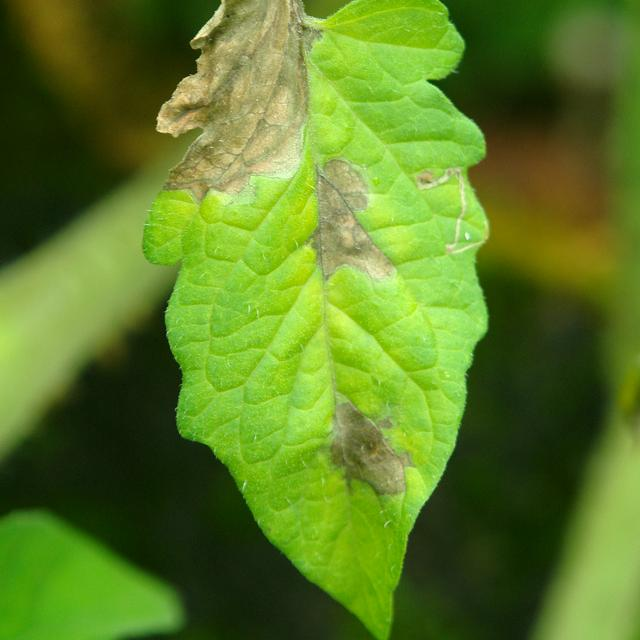Tomato leaf late blight: (134, 0, 502, 640)
